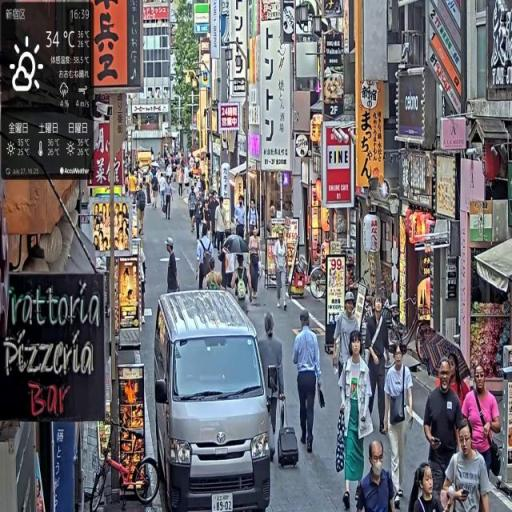person: (338, 330, 376, 511), (424, 359, 468, 501), (384, 345, 418, 504), (463, 363, 503, 488), (442, 418, 493, 512), (292, 311, 325, 453), (364, 297, 391, 437), (333, 291, 363, 407), (358, 435, 398, 512), (408, 463, 449, 512), (273, 228, 291, 311), (248, 229, 263, 306), (166, 240, 180, 295), (204, 260, 225, 293), (137, 182, 148, 238), (164, 176, 174, 222)
